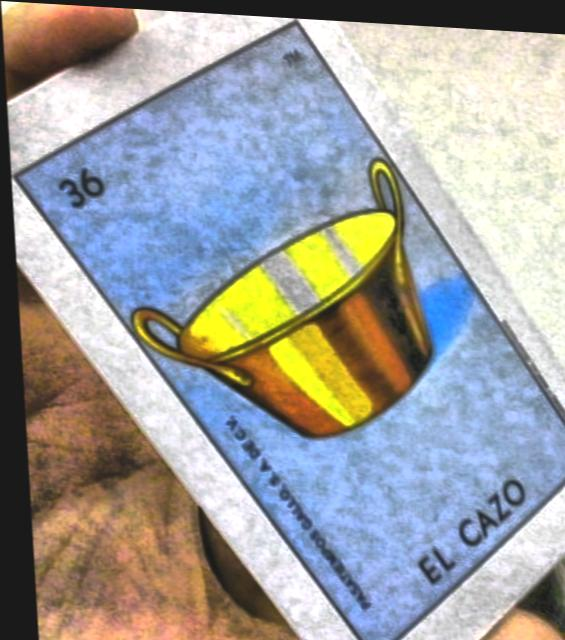El Cazo: (12, 21, 565, 640)
